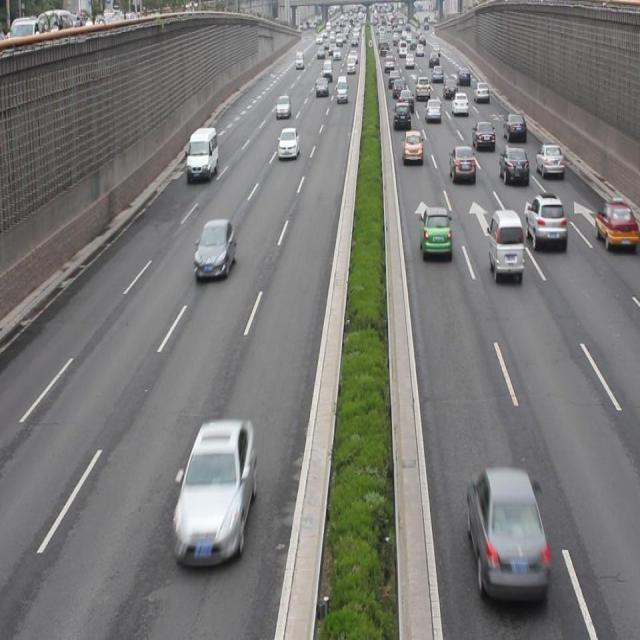car: (173, 419, 255, 561), (466, 463, 548, 599), (194, 219, 235, 279), (523, 194, 565, 252), (593, 200, 640, 250), (418, 206, 451, 261), (498, 148, 528, 187), (448, 147, 477, 186), (534, 143, 563, 179), (502, 110, 526, 142), (401, 130, 422, 164), (277, 128, 299, 158), (472, 123, 495, 150), (393, 102, 411, 134)
truck: (486, 210, 523, 281), (186, 125, 216, 175)
